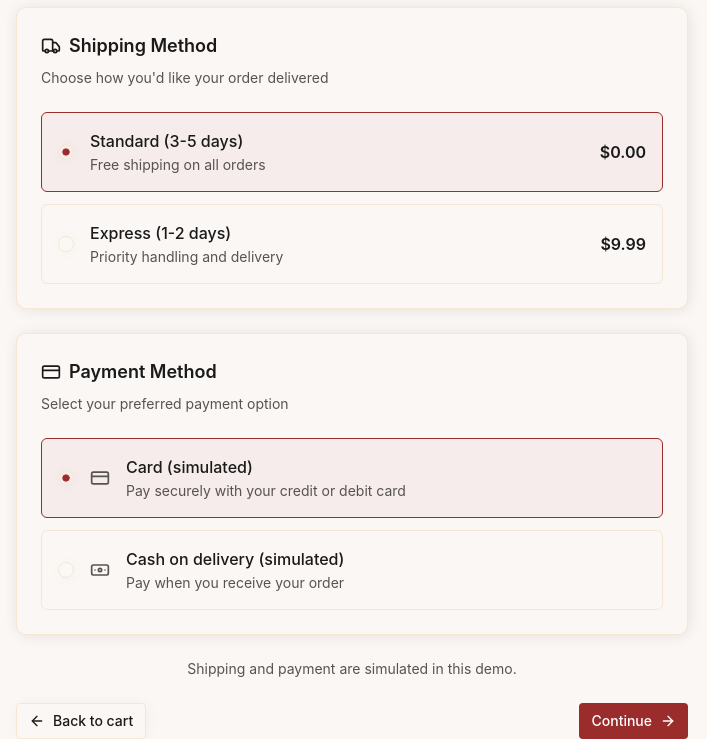
Scenario: CheckoutForm › step 2 validation › focuses the first invalid country picker and marks it invalid
(page scrolled)
Click the button with test id "checkout-continue" at (634, 721), box [580,703,688,738]
(page scrolled)
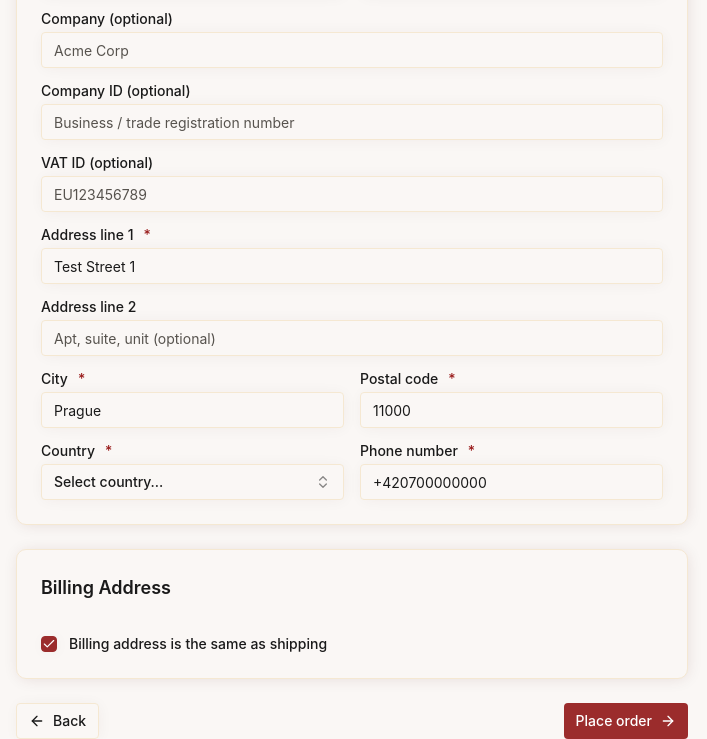
Click the button with test id "checkout-submit" at (626, 721), box [564,703,688,738]
(page scrolled)
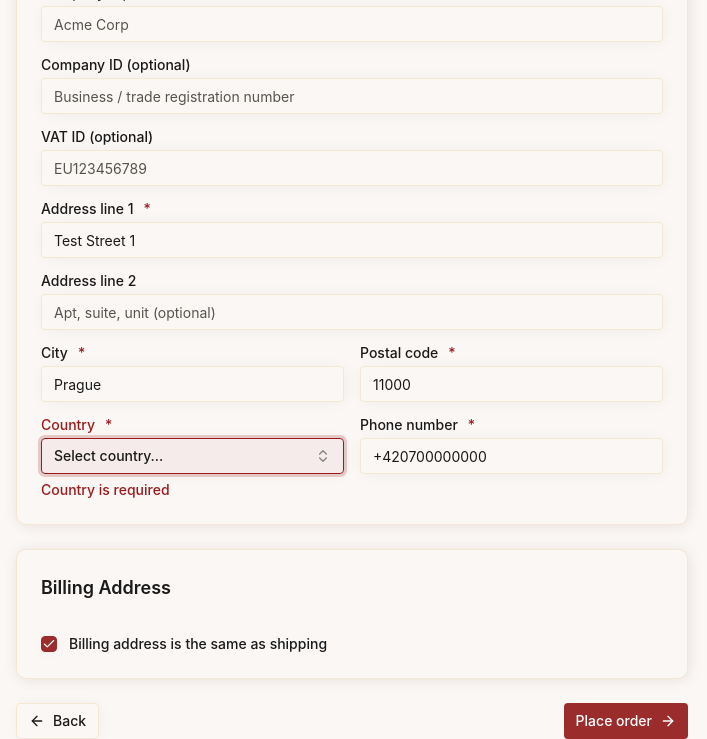
Expected: the text "Country is required" is shown, [41,481,170,498]
